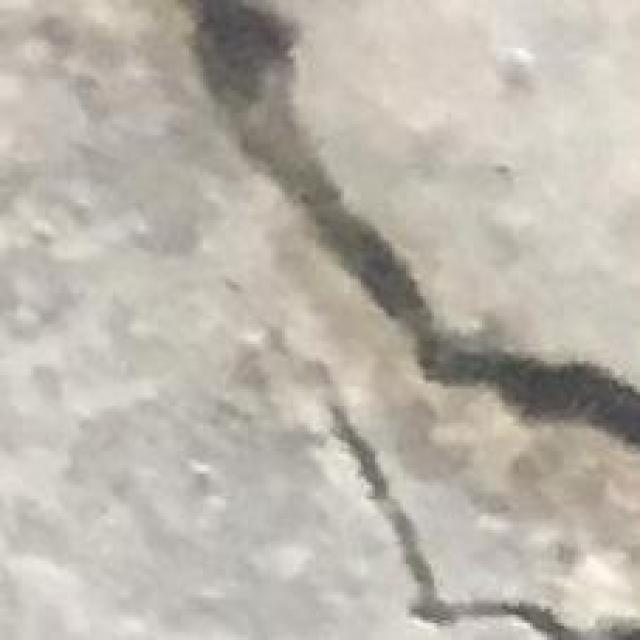Crack: (0, 6, 640, 530)
